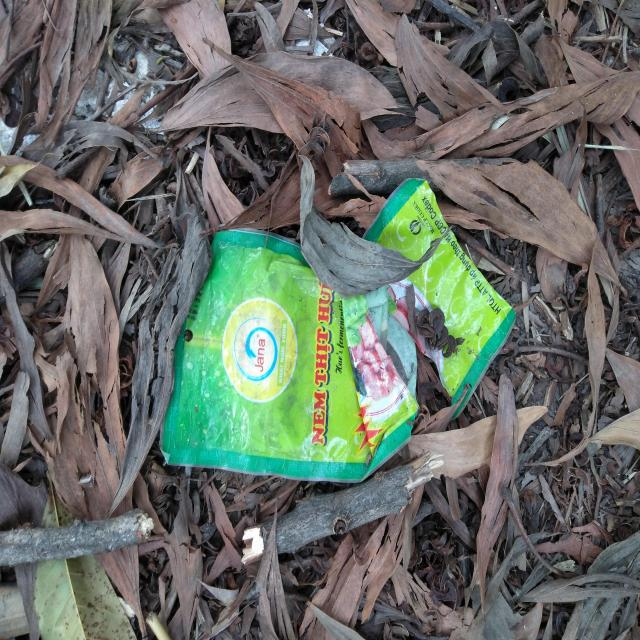litter: (163, 175, 518, 482)
